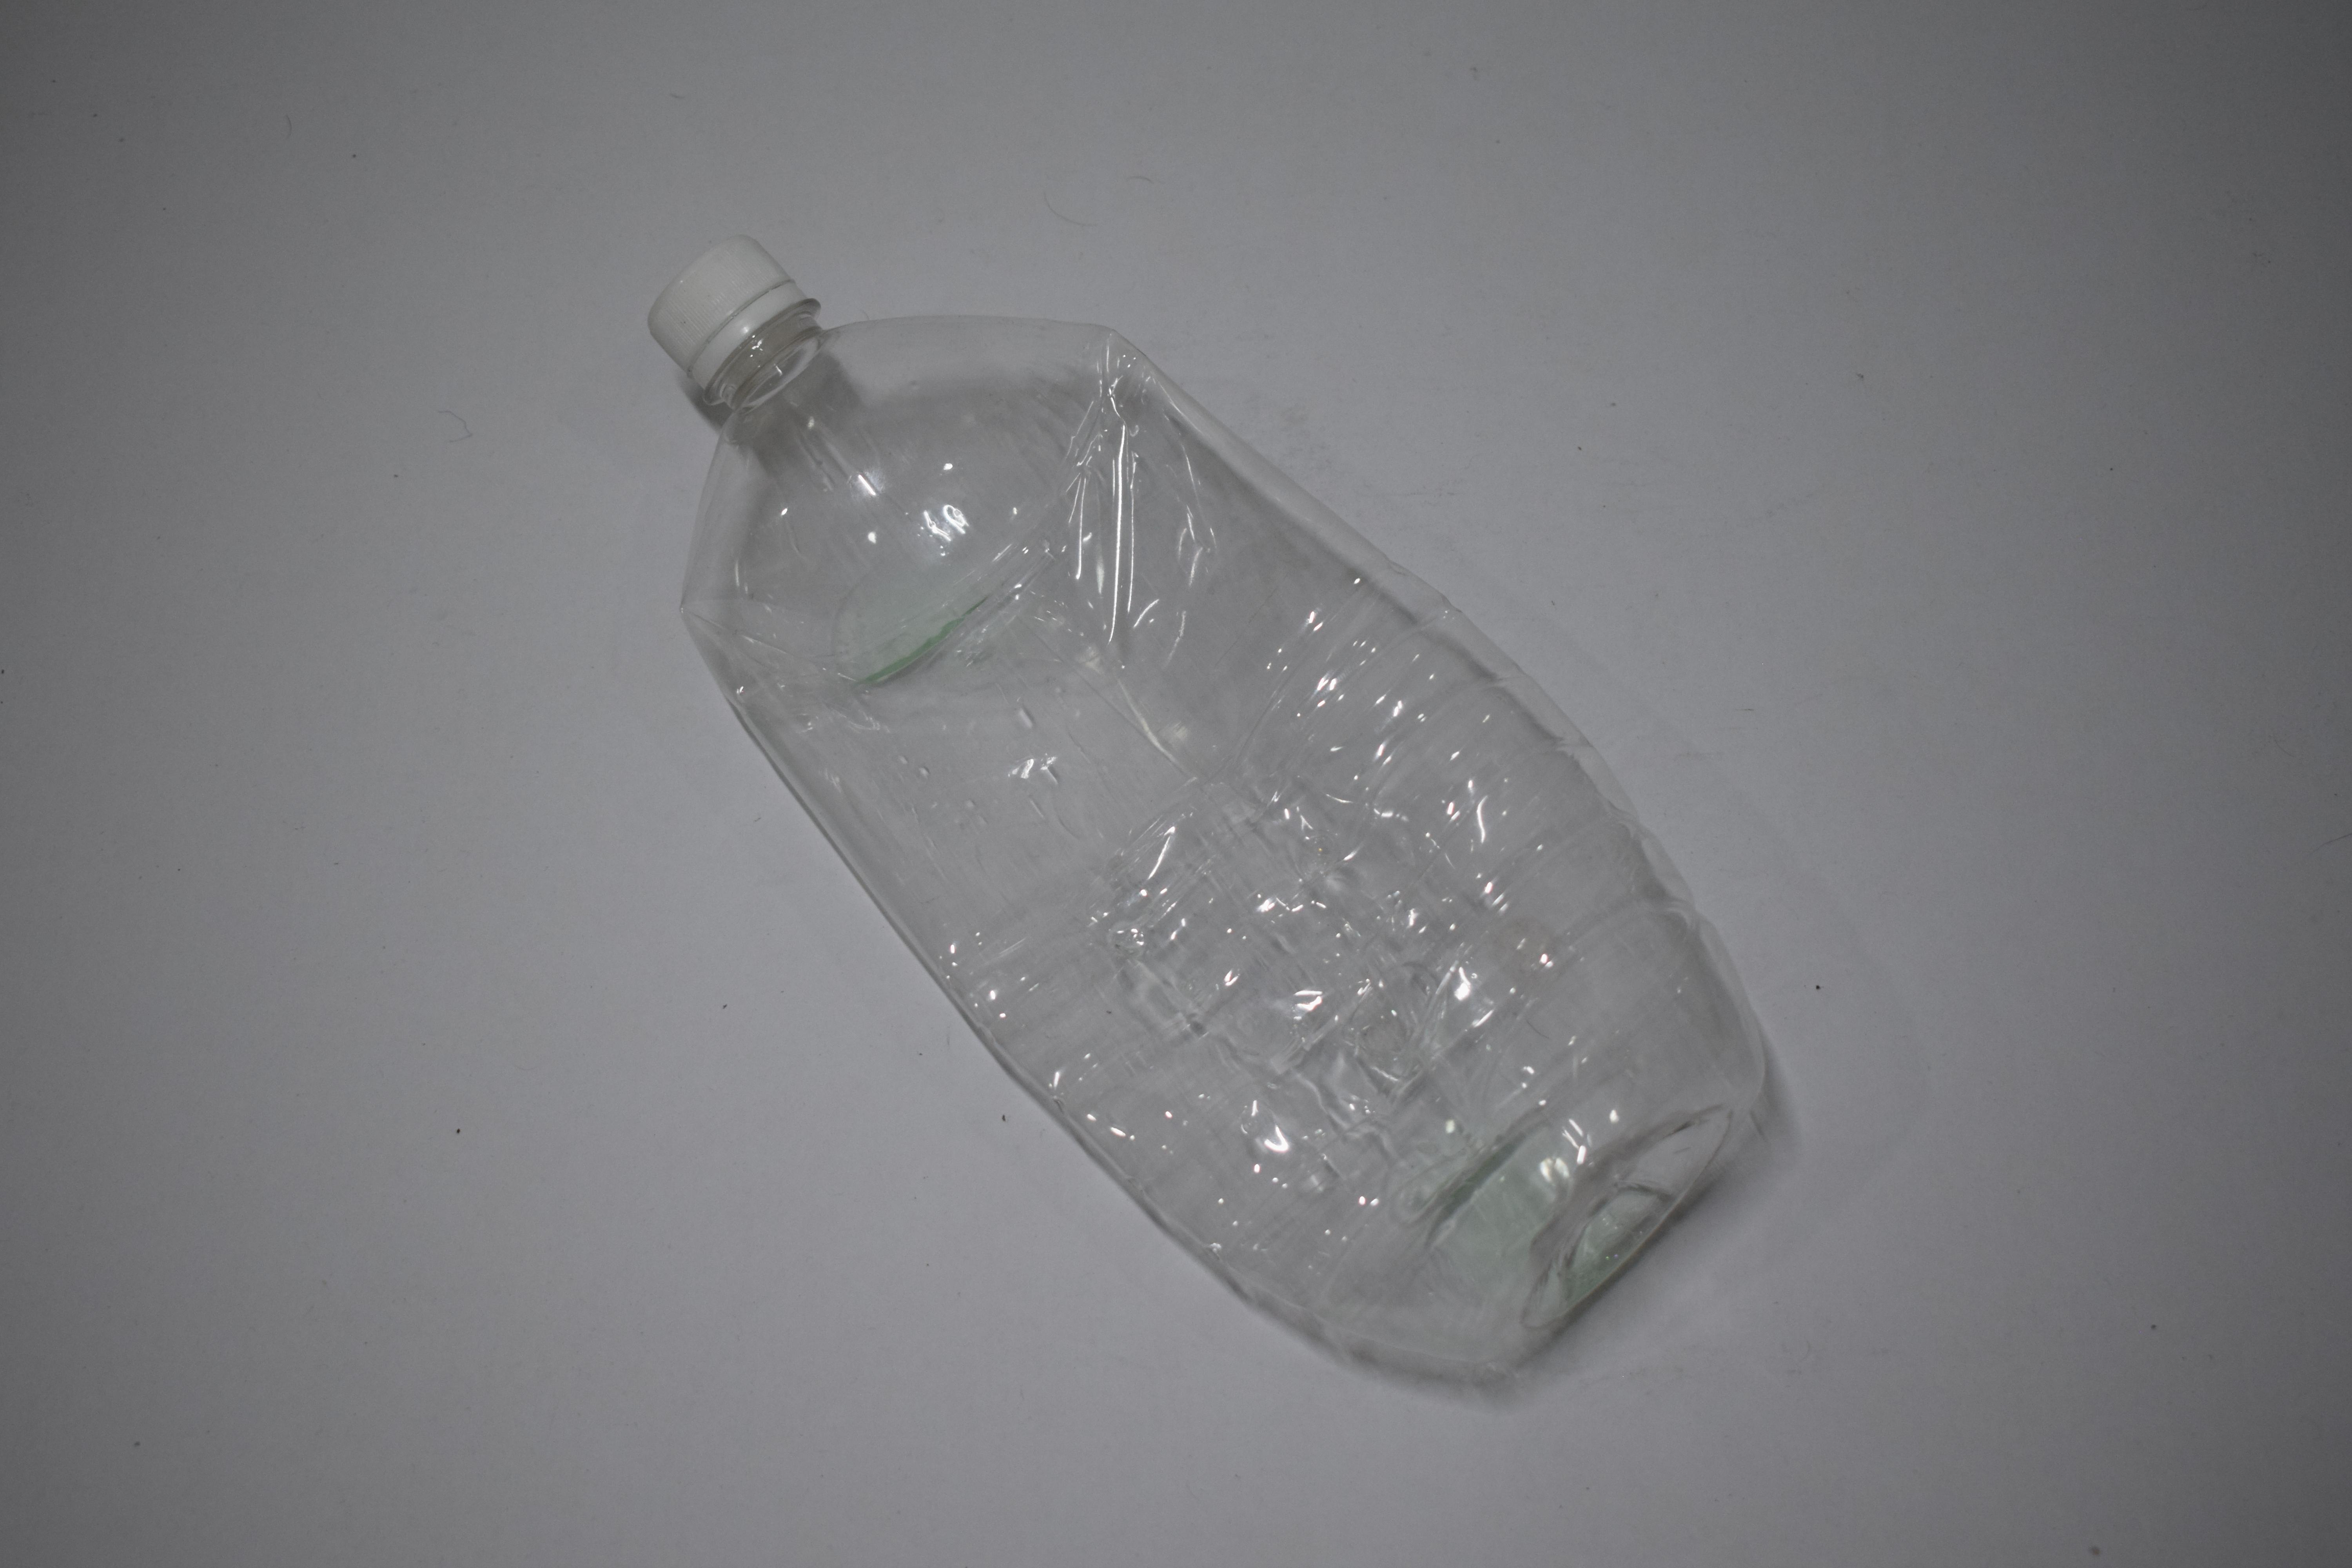bottle: (0, 0, 593, 607)
